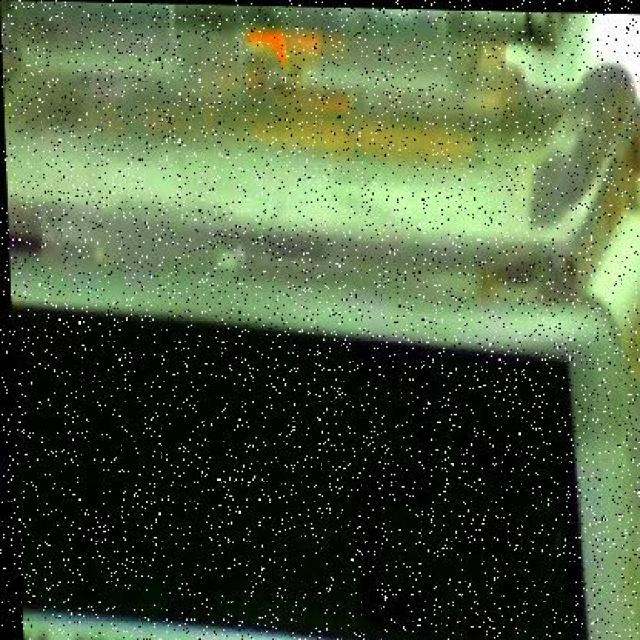display: (0, 303, 588, 640)
gauge: (0, 131, 640, 640)
